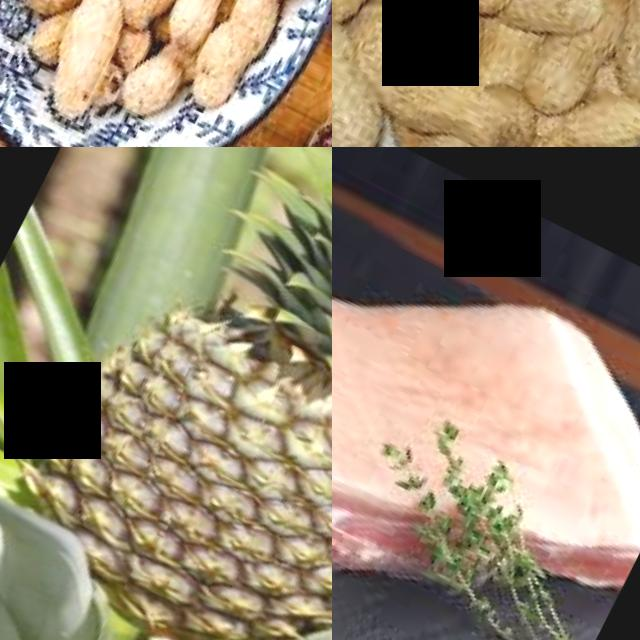peanuts: (377, 35, 550, 147), (28, 0, 142, 122), (182, 0, 290, 119), (356, 0, 531, 38), (579, 0, 640, 104), (157, 0, 261, 57), (117, 0, 209, 35)
pineapple: (0, 191, 332, 640)
pork belly: (332, 182, 433, 640)
